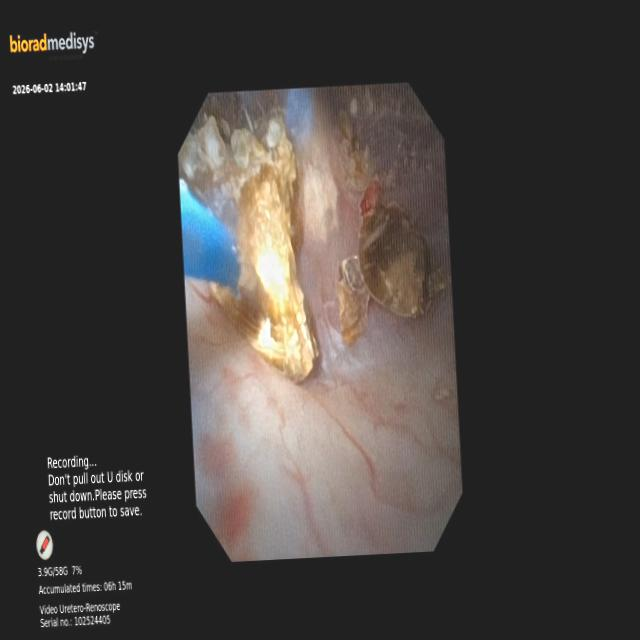laser_dot: (257, 246, 289, 305)
stone-new: (196, 119, 317, 382), (359, 201, 430, 317), (337, 257, 369, 345)
